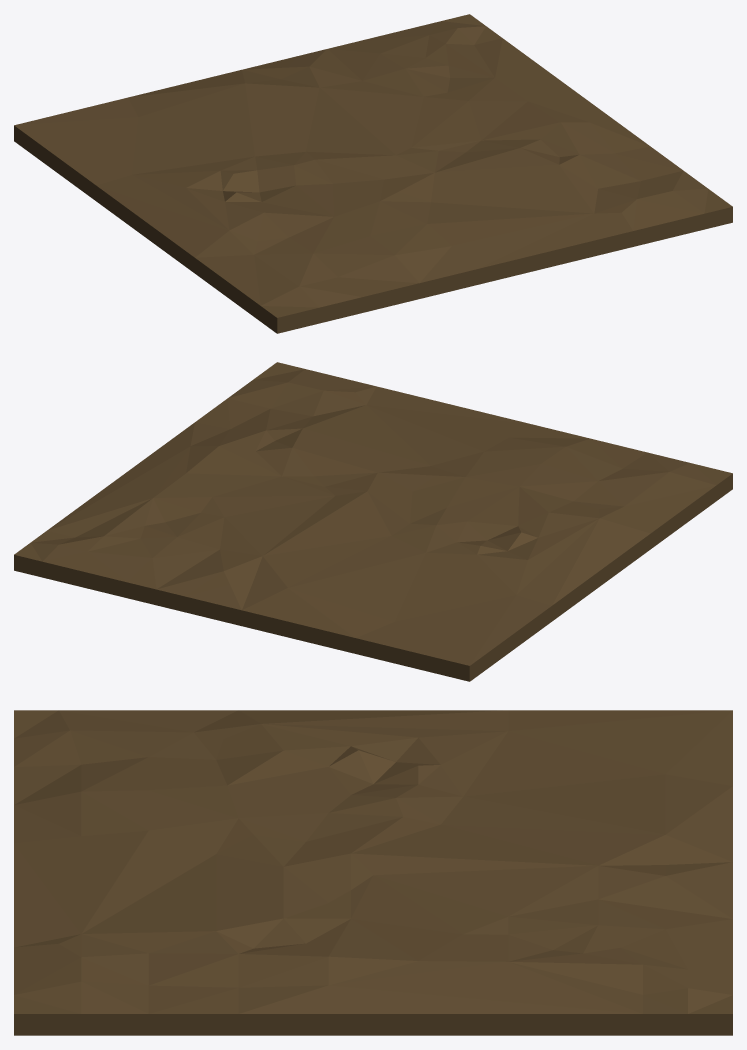
File: victorian_road_dirt_1.fbx
3 renders of one model, top to bottom at view 1: azimuth 30°, elevation 25°; view 2: azimuth 150°, elevation 25°; view 3: azimuth 270°, elevation 25°, orthographic. The views are drawn at different scales.
Parts seen in each view (by area): view 1: Cube.239; view 2: Cube.239; view 3: Cube.239.
Part boxes in pixels (x1,y1,x2,y2): Cube.239: [14, 14, 732, 333]; Cube.239: [14, 362, 732, 681]; Cube.239: [14, 710, 732, 1035].
Bounding box in the file's own units: 300 × 19.03 × 300.
